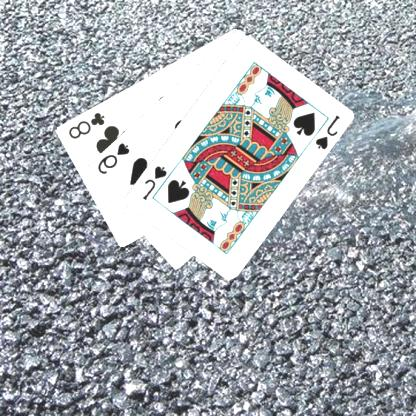6S: (96, 140, 133, 176)
8C: (67, 109, 107, 140)
JS: (141, 162, 170, 202), (314, 112, 343, 152)
